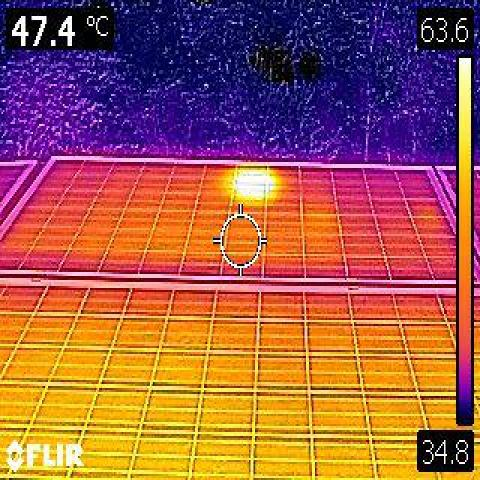fault: (237, 166, 264, 197)
